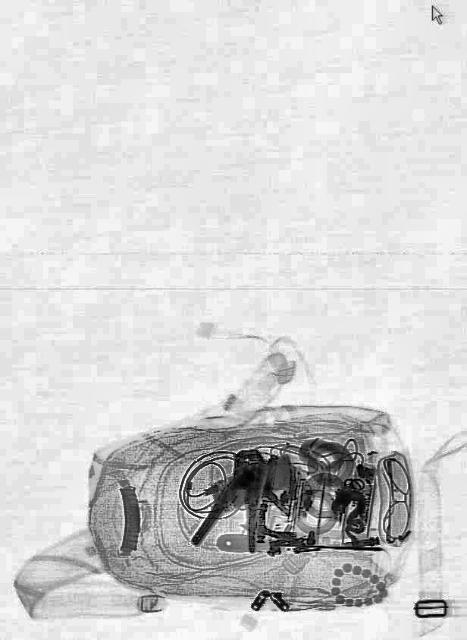Pliers: (190, 434, 276, 564)
